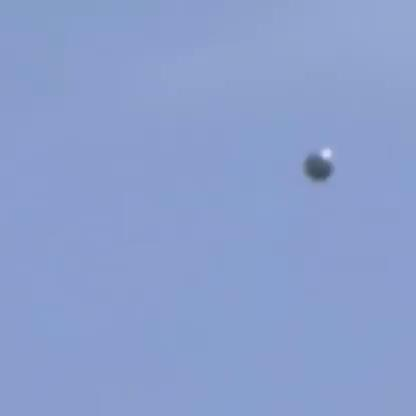golfball: (298, 146, 331, 182)
